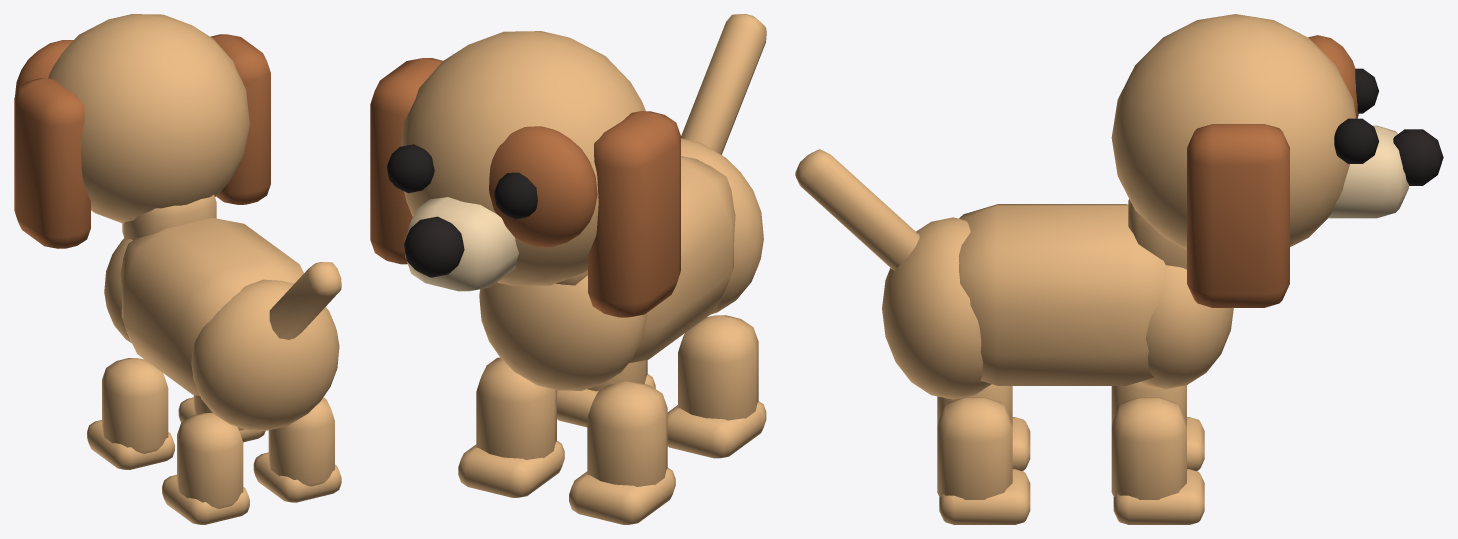
File: pet-dog.glb
3 views of the same model, side by side, from view 1: azimuth 30°, elevation 25°; view 2: azimuth 150°, elevation 25°; view 3: azimuth 270°, elevation 25° (orthographic). The views are drawn at different scales.
Parts seen in each view (by area): view 1: dog_body, dog_head, dog_ear_left, dog_leg_front_left, dog_leg_back_left, dog_leg_back_right, dog_ear_right, dog_tail, dog_leg_front_right; view 2: dog_head, dog_body, dog_ear_left, dog_leg_front_left, dog_leg_back_left, dog_leg_front_right, dog_ear_right, dog_tail, dog_leg_back_right; view 3: dog_body, dog_head, dog_ear_right, dog_leg_front_right, dog_leg_back_right, dog_tail, dog_leg_front_left, dog_leg_back_left.
Boxes of the visible parts, x1,y1,x2,y2 form: dog_body: (104, 194, 339, 430); dog_head: (15, 14, 249, 223); dog_ear_left: (14, 78, 90, 248); dog_leg_front_left: (87, 358, 174, 469); dog_leg_back_left: (162, 413, 249, 524); dog_leg_back_right: (253, 397, 341, 502); dog_ear_right: (210, 34, 270, 204); dog_tail: (269, 262, 341, 339); dog_leg_front_right: (178, 395, 265, 442); dog_head: (387, 31, 645, 291); dog_body: (479, 138, 763, 390); dog_ear_left: (588, 111, 680, 317); dog_leg_front_left: (569, 381, 675, 524); dog_leg_back_left: (667, 315, 766, 458); dog_leg_front_right: (458, 357, 564, 497); dog_ear_right: (370, 58, 442, 264); dog_tail: (681, 14, 766, 154); dog_leg_back_right: (557, 360, 655, 427); dog_body: (882, 199, 1233, 399); dog_head: (1111, 14, 1443, 249); dog_ear_right: (1187, 124, 1289, 307); dog_leg_front_right: (1111, 397, 1204, 524); dog_leg_back_right: (937, 397, 1030, 524); dog_tail: (795, 149, 919, 270); dog_leg_front_left: (1111, 382, 1204, 470); dog_leg_back_left: (937, 384, 1030, 470).
Size of the model in its own units: 0.3116 by 0.515 by 0.6541.
